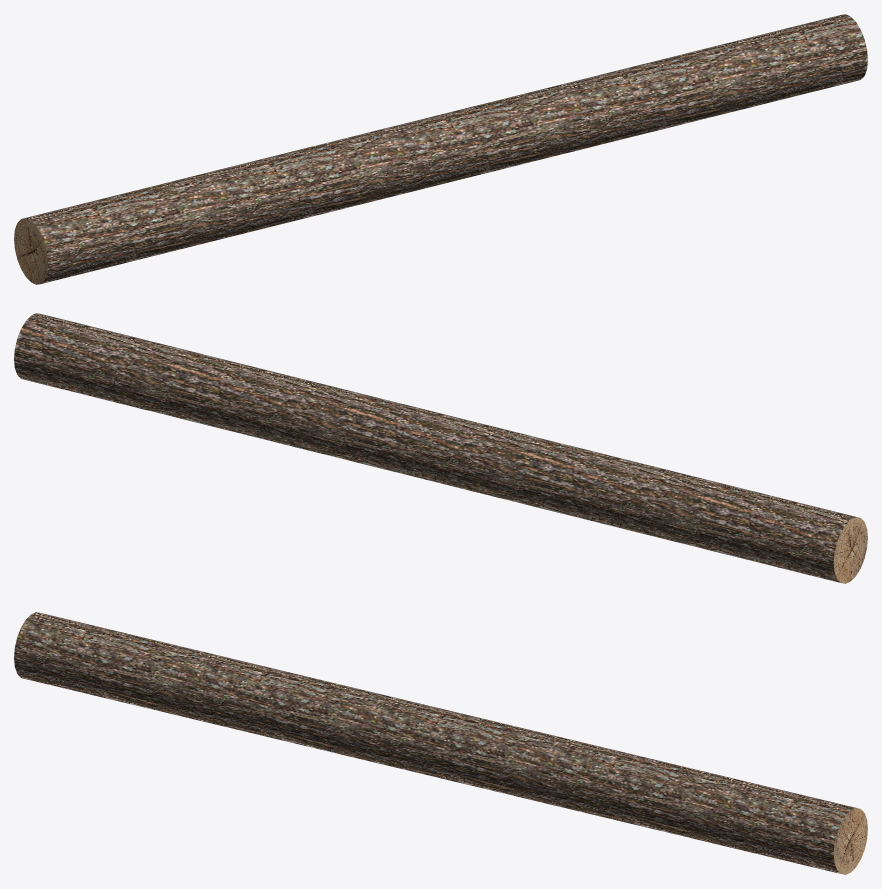
Rendered from treetrunk.fbx.
3 renders of one model, top to bottom at view 1: azimuth 30°, elevation 25°; view 2: azimuth 150°, elevation 25°; view 3: azimuth 330°, elevation 25°, orthographic.
Parts seen in each view (by area): view 1: pCylinder1; view 2: pCylinder1; view 3: pCylinder1.
Boxes of the visible parts, x1=… form: pCylinder1: x1=14, y1=14, x2=867, y2=284; pCylinder1: x1=14, y1=313, x2=867, y2=583; pCylinder1: x1=14, y1=612, x2=867, y2=874.
Bounding box in the file's own units: 49.82 × 3.84 × 3.6.
1 material, 1 textured.
